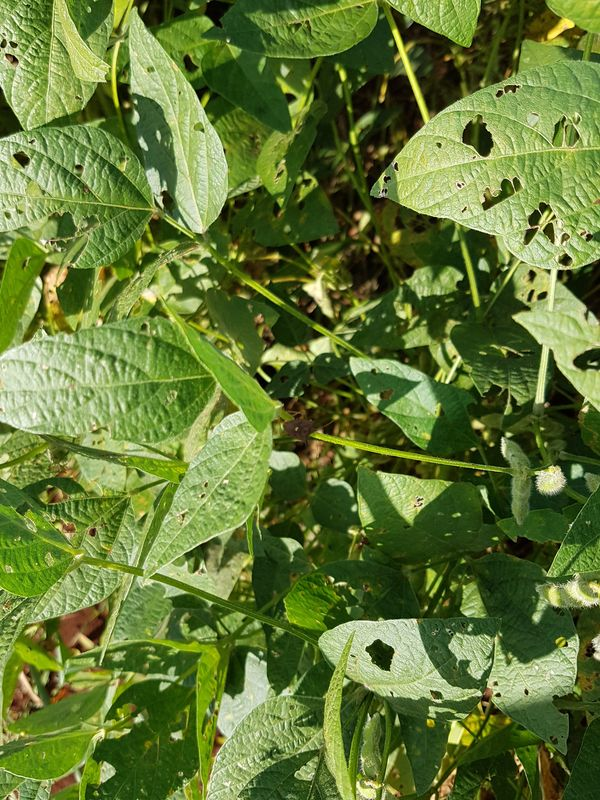Euschistus_heros_adulto: (278, 413, 321, 451)
